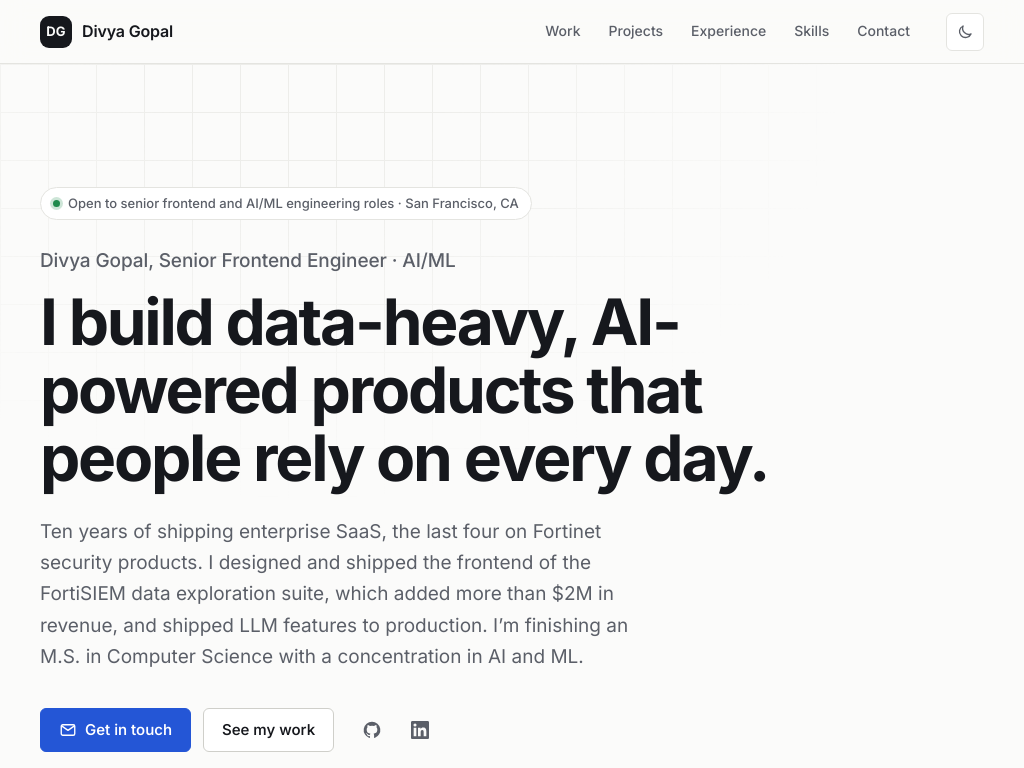
Test: <App /> › toggles and persists the theme
Click the button named "switch to dark theme". click: (965, 32)
box: [946,12,984,50]
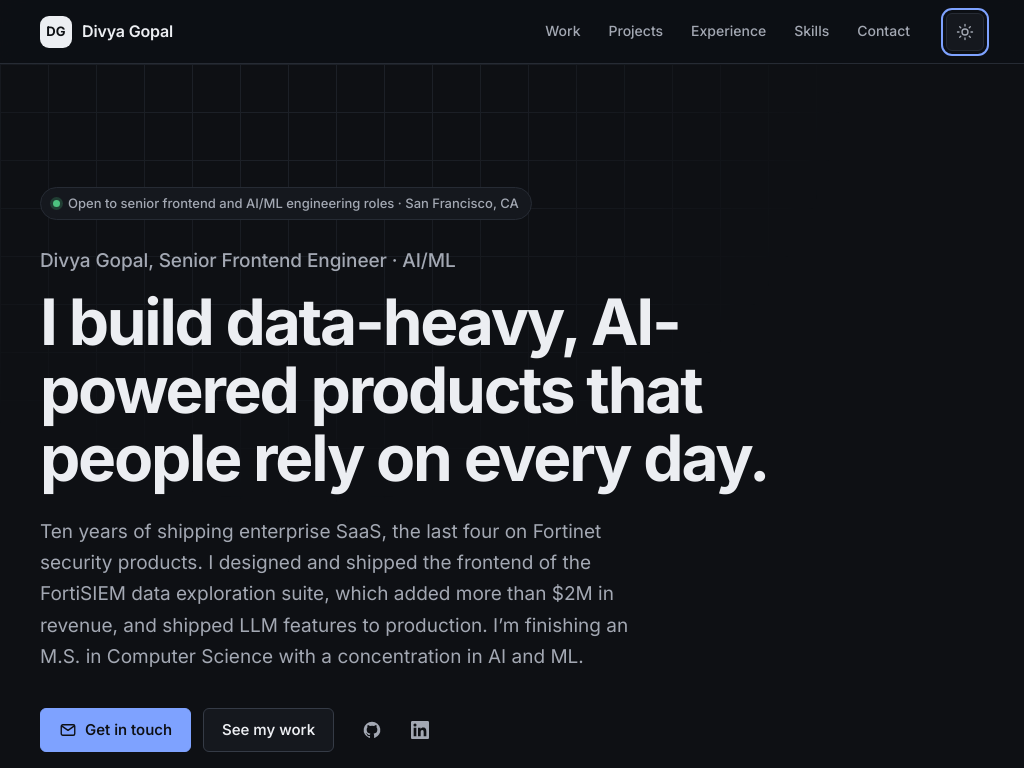
Now the button named "switch to light theme" is shown, box [946,12,984,50]
